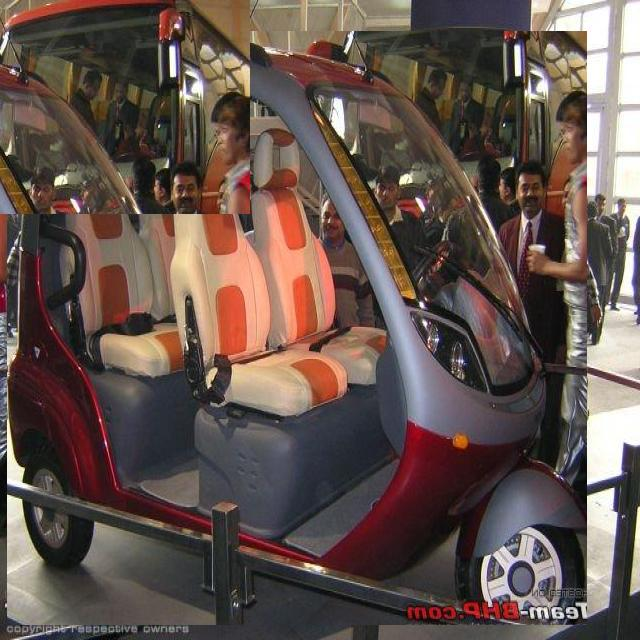autorickshaw: (8, 31, 587, 625)
bus: (0, 0, 250, 214)
